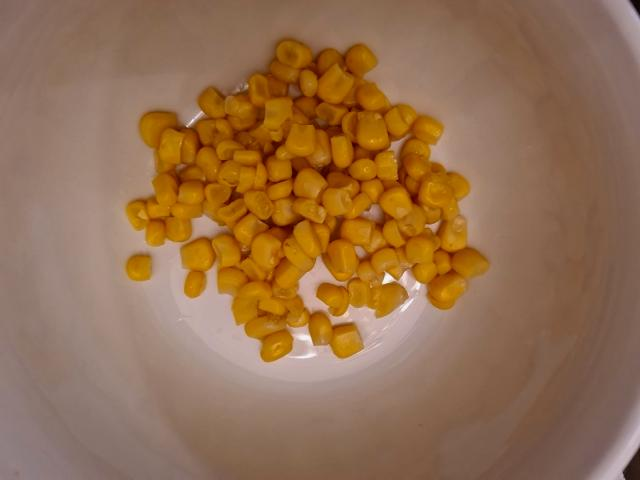kichen waste: (126, 38, 490, 362)
